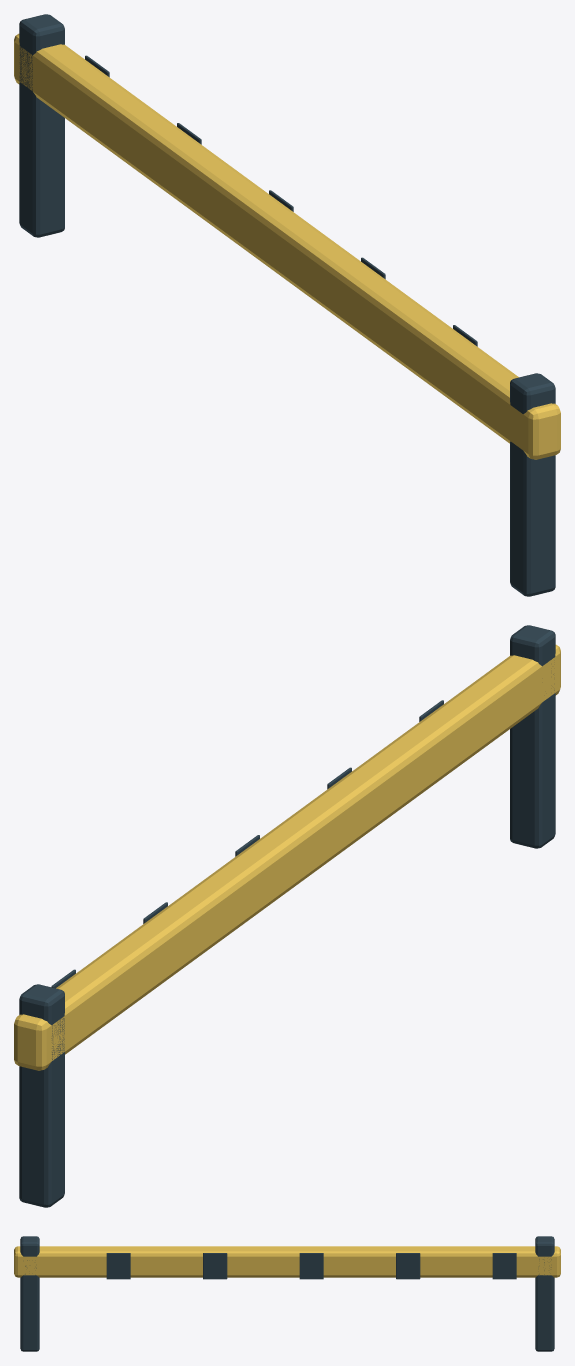
The model's file is barrier.glb.
3 views of the same model, one above another, from view 1: azimuth 30°, elevation 25°; view 2: azimuth 150°, elevation 25°; view 3: azimuth 270°, elevation 25° (orthographic). The views are drawn at different scales.
Visible parts, largest first — view 1: tyaga-barrier-surface; view 2: tyaga-barrier-surface; view 3: tyaga-barrier-surface.
Boxes of the visible parts, box(x1,y1,x2,y2) form: tyaga-barrier-surface: box(14, 14, 560, 596); tyaga-barrier-surface: box(14, 625, 560, 1207); tyaga-barrier-surface: box(14, 1236, 560, 1351).
Bounding box in the file's own units: 0.1275 × 0.75 × 3.4.
